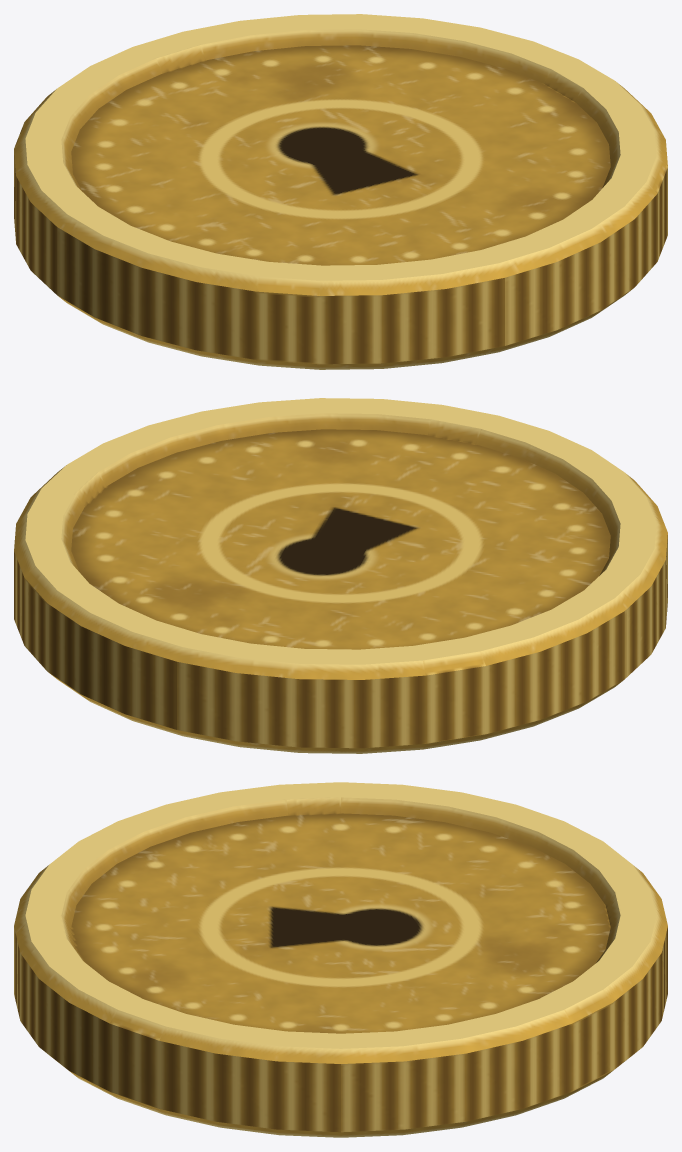
Rendered from Coin.fbx.
3 views of the same model, one above another, from view 1: azimuth 30°, elevation 25°; view 2: azimuth 150°, elevation 25°; view 3: azimuth 270°, elevation 25° (orthographic).
Visible parts, largest first — view 1: Coin; view 2: Coin; view 3: Coin.
Boxes of the visible parts, x1=… form: Coin: x1=14, y1=14, x2=667, y2=369; Coin: x1=14, y1=398, x2=667, y2=753; Coin: x1=14, y1=782, x2=667, y2=1137.
Size of the model in its own units: 0.8 by 0.12 by 0.8.
Materials: 1 (1 with a texture image).
